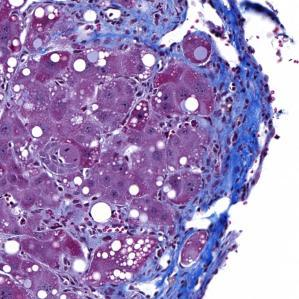fibrosis: (204, 67, 267, 195), (98, 7, 180, 56)
